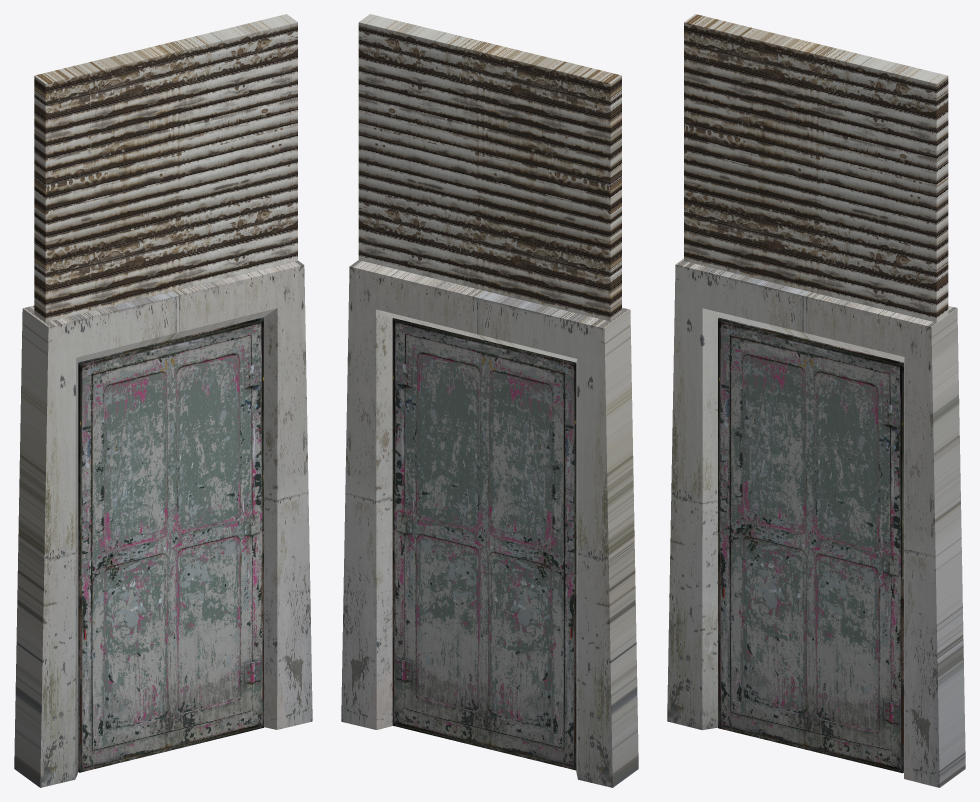
Rendered from door and frame green door 1.obj.
The picture shows the model from 3 angles, left to right: view 1: azimuth 30°, elevation 25°; view 2: azimuth 150°, elevation 25°; view 3: azimuth 330°, elevation 25°; orthographic projection.
Parts seen in each view (by area): view 1: Door, Wall_section, Door_frame; view 2: Door, Wall_section, Door_frame; view 3: Door, Wall_section, Door_frame.
Boxes of the visible parts, box(x1,y1,x2,y2) form: Door: box(78, 317, 263, 772); Wall_section: box(34, 14, 297, 322); Door_frame: box(14, 260, 312, 787); Door: box(392, 318, 576, 770); Wall_section: box(358, 14, 621, 321); Door_frame: box(341, 260, 638, 787); Door: box(718, 317, 903, 773); Wall_section: box(684, 14, 948, 322); Door_frame: box(667, 258, 965, 787).
Size of the model in its own units: 99.26 by 243 by 16.43.
